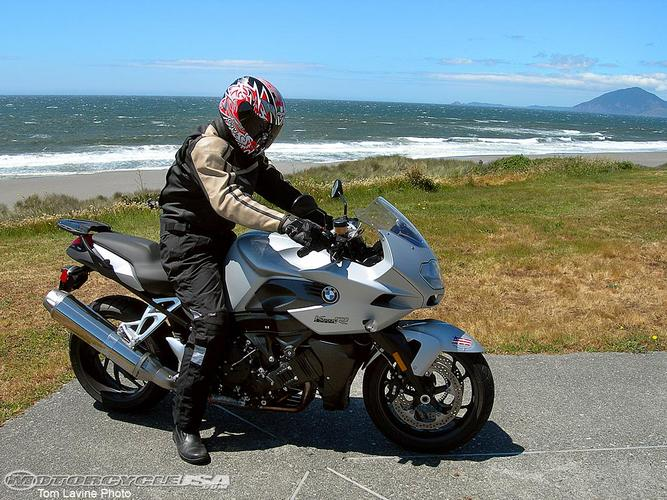摩托车: (38, 199, 517, 459)
